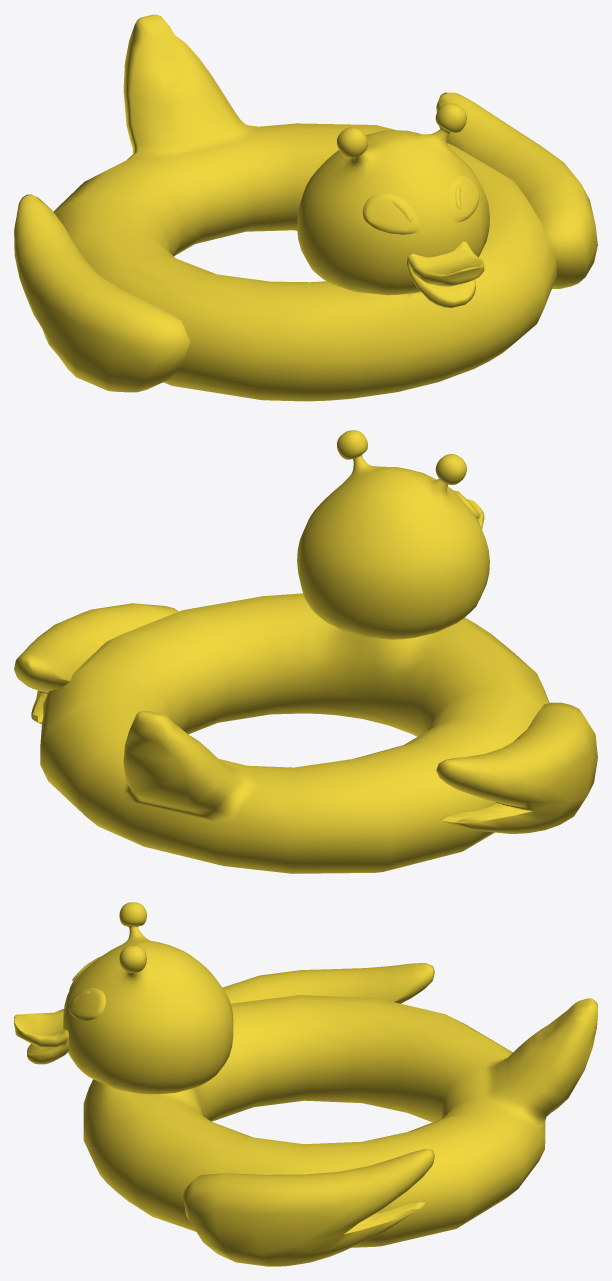
File: SM_HUB_Duck.fbx
The picture shows the model from 3 angles, top to bottom: view 1: azimuth 30°, elevation 25°; view 2: azimuth 150°, elevation 25°; view 3: azimuth 270°, elevation 25°; orthographic projection. The views are drawn at different scales.
Parts seen in each view (by area): view 1: SM_HUB_Duck; view 2: SM_HUB_Duck; view 3: SM_HUB_Duck.
Part boxes in pixels (x1=…): SM_HUB_Duck: x1=14, y1=14, x2=597, y2=401; SM_HUB_Duck: x1=14, y1=430, x2=597, y2=873; SM_HUB_Duck: x1=14, y1=902, x2=597, y2=1266.
Size of the model in its own units: 266 by 131 by 284.
